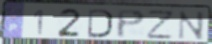1: (32, 9, 44, 36)
2: (57, 7, 82, 39)
D: (87, 8, 114, 39)
N: (177, 10, 206, 41)
P: (116, 9, 147, 40)
Z: (146, 10, 176, 40)
